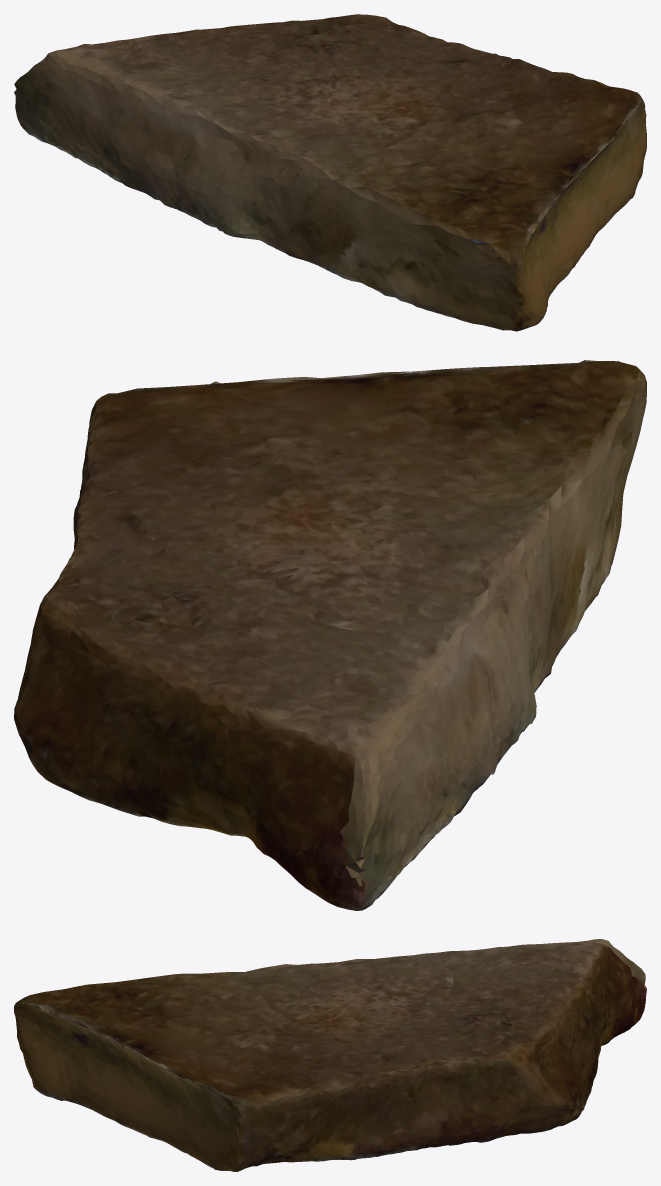
File: TileFront.fbx
3 views of the same model, one above another, from view 1: azimuth 30°, elevation 25°; view 2: azimuth 150°, elevation 25°; view 3: azimuth 270°, elevation 25° (orthographic). The views are drawn at different scales.
Visible parts, largest first — view 1: mesh0; view 2: mesh0; view 3: mesh0.
Part boxes in pixels (x1=…): mesh0: x1=14, y1=14, x2=646, y2=331; mesh0: x1=14, y1=360, x2=646, y2=910; mesh0: x1=14, y1=939, x2=646, y2=1171.
Size of the model in its own units: 4.36 by 1.05 by 6.48.
Materials: 1 (1 with a texture image).
